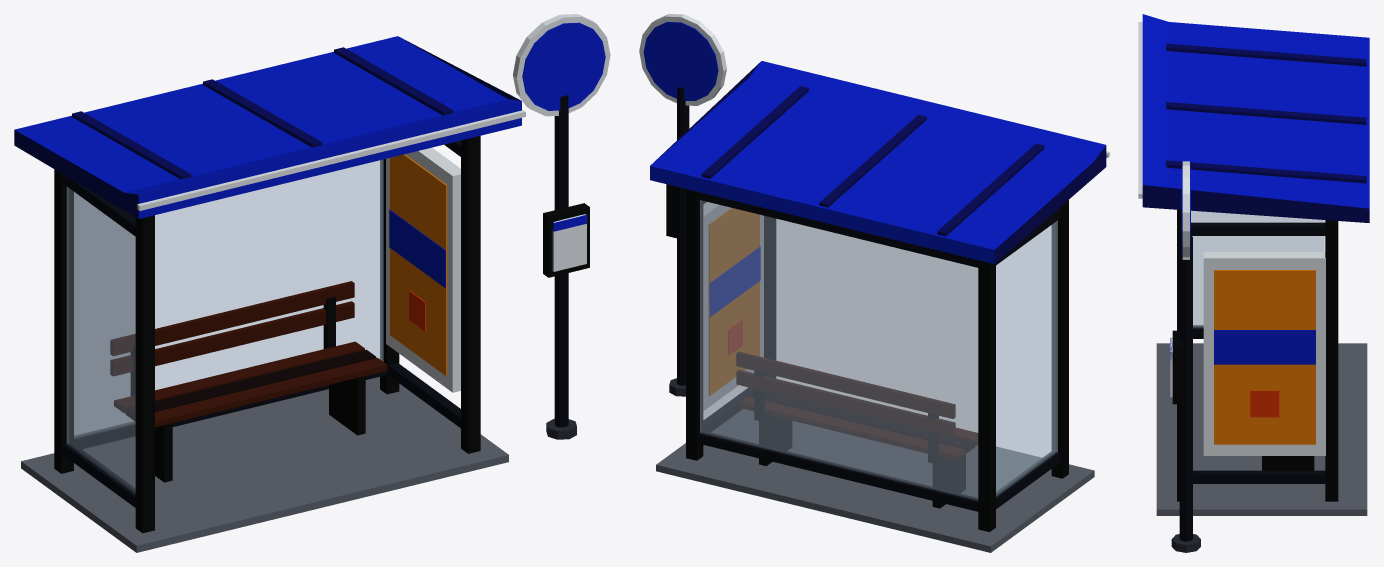
Rendered from bus_shelter.glb.
3 views of the same model, side by side, from view 1: azimuth 30°, elevation 25°; view 2: azimuth 150°, elevation 25°; view 3: azimuth 270°, elevation 25° (orthographic). The views are drawn at different scales.
Visible parts, largest first — view 1: SM_BusShelter, SM_BusShelter_glass; view 2: SM_BusShelter, SM_BusShelter_glass; view 3: SM_BusShelter, SM_BusShelter_glass.
Part boxes in pixels (<box>): SM_BusShelter: <box>14,14,610,552</box>; SM_BusShelter_glass: <box>66,159,383,493</box>; SM_BusShelter: <box>639,14,1109,552</box>; SM_BusShelter_glass: <box>700,200,1057,500</box>; SM_BusShelter: <box>1138,14,1369,552</box>; SM_BusShelter_glass: <box>1191,210,1324,327</box>.
Size of the model in its own units: 3.59 by 2.89 by 1.59.
Materials: 2 (1 with a texture image).
